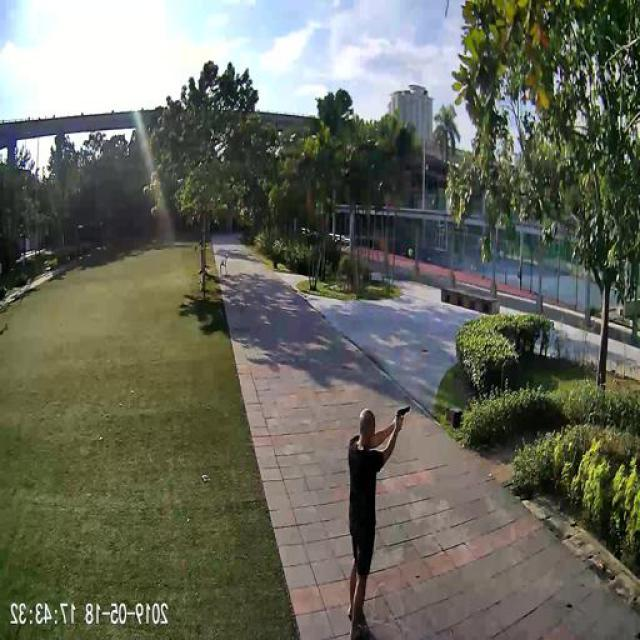Gun: (396, 399, 414, 419)
